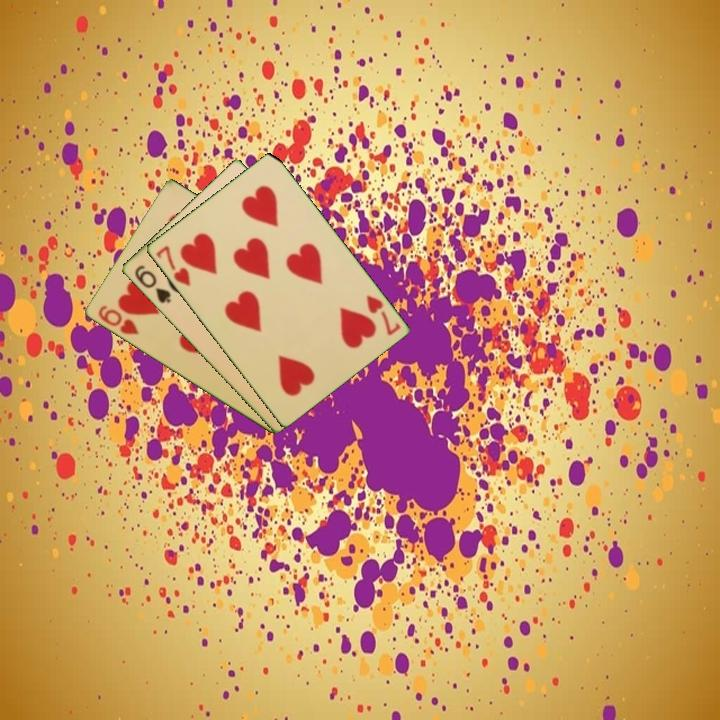6h: (94, 302, 142, 338)
6s: (130, 262, 174, 306)
7h: (152, 242, 194, 289), (362, 291, 403, 338)
